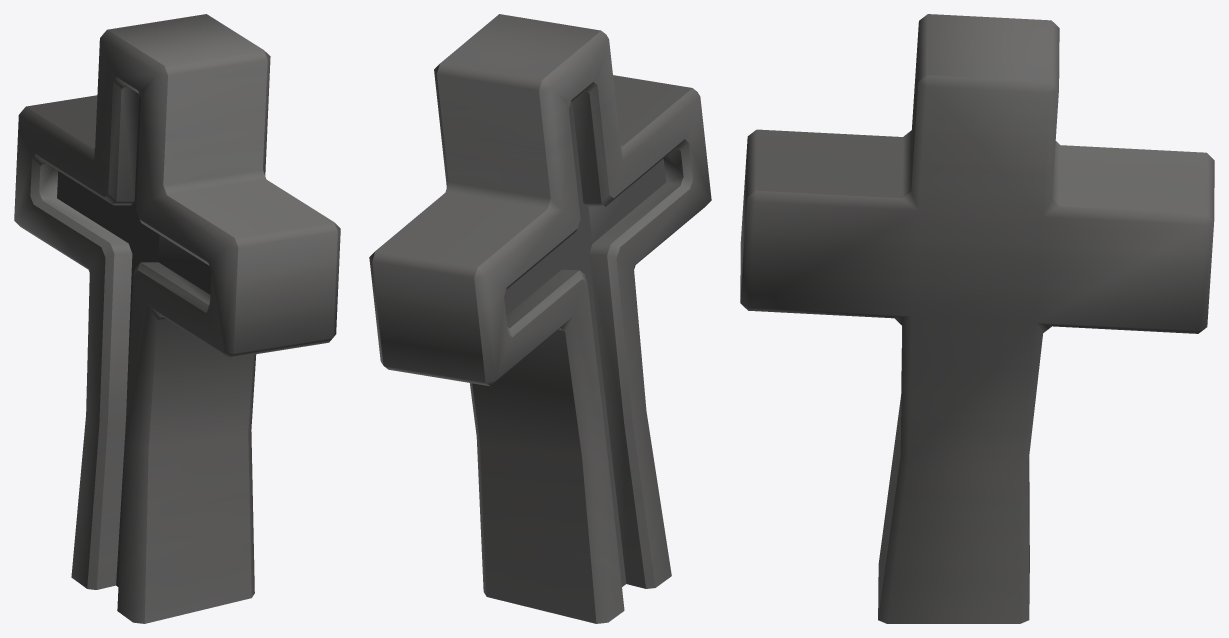
Rendered from Cross_2_2.obj.
The picture shows the model from 3 angles, left to right: view 1: azimuth 30°, elevation 25°; view 2: azimuth 150°, elevation 25°; view 3: azimuth 270°, elevation 25°; orthographic projection. The views are drawn at different scales.
Visible parts, largest first — view 1: Cross_2_2; view 2: Cross_2_2; view 3: Cross_2_2.
Part boxes in pixels (x1,y1,x2,y2): Cross_2_2: [14, 14, 340, 623]; Cross_2_2: [369, 14, 711, 623]; Cross_2_2: [740, 14, 1214, 623].
Size of the model in its own units: 0.3014 by 0.9838 by 0.7391.
